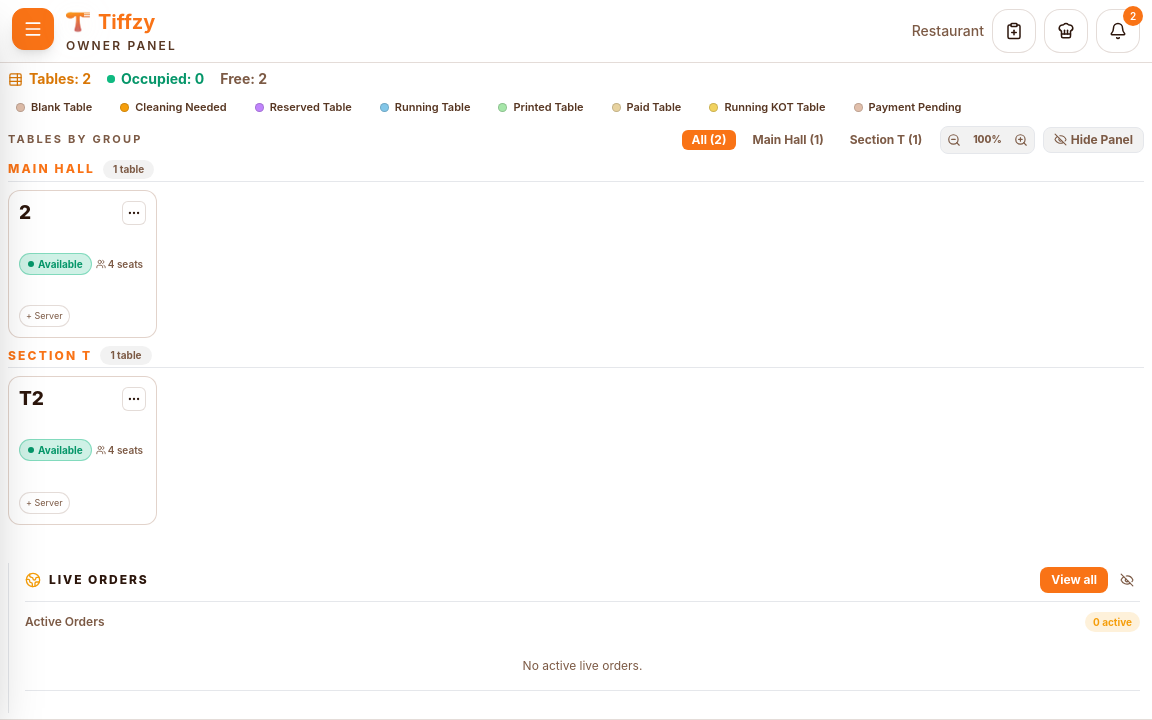
Test: Owner Tables QA — 10 REGRESSION SCENARIOS TEST SUITE › TEST 6: Verify staff DOM has draggable='true' on intended staff elements
The width and height of the screenshot is (1152, 720).
Click the 1st button titled "Assign server for Table 2".
click(44, 316)  # box x1=19 y1=305 x2=70 y2=327
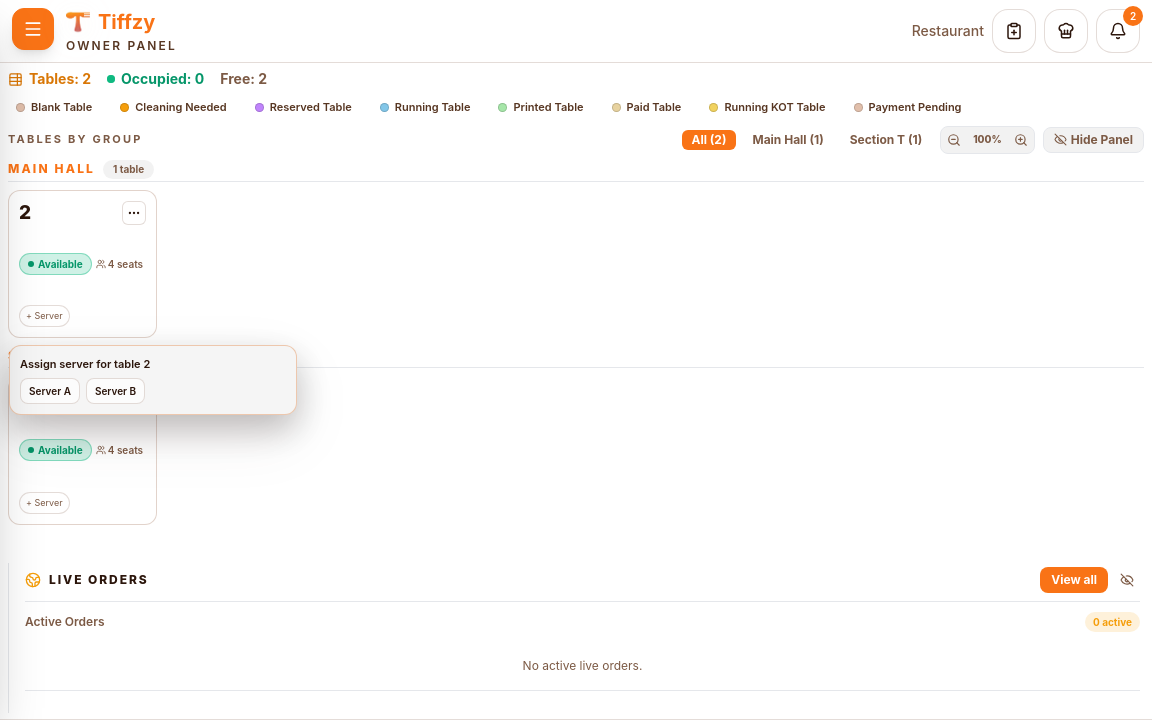
Result: the button with class "theme-table-staff-option" showing "Server A" is shown at x1=20 y1=378 x2=80 y2=404
